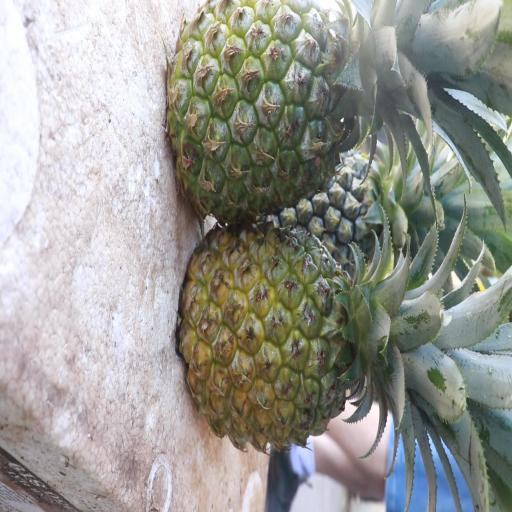------------------------------: (172, 0, 386, 216)
Pineapple - v8 v1: (184, 226, 405, 448)
